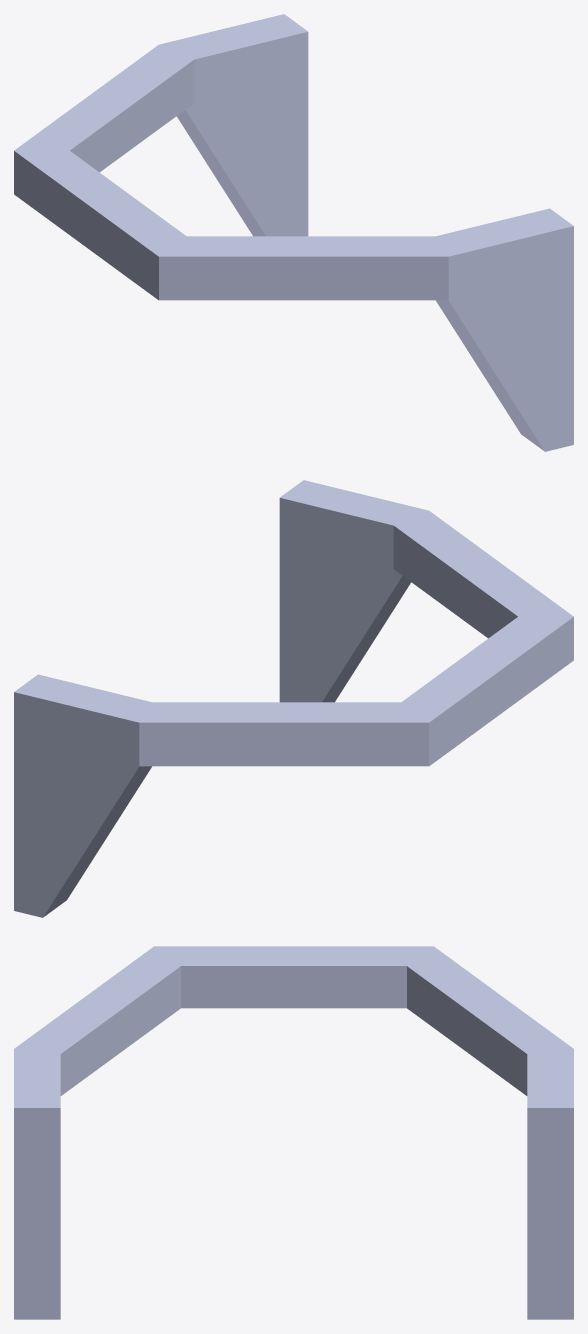
File: Head gear 1.FBX
The picture shows the model from 3 angles, top to bottom: view 1: azimuth 30°, elevation 25°; view 2: azimuth 150°, elevation 25°; view 3: azimuth 270°, elevation 25°; orthographic projection. The views are drawn at different scales.
Visible parts, largest first — view 1: Mirror4; view 2: Mirror4; view 3: Mirror4.
Boxes of the visible parts, left/top/right/bottom form: Mirror4: left=14, top=14, right=573, bottom=451; Mirror4: left=14, top=480, right=573, bottom=917; Mirror4: left=14, top=946, right=573, bottom=1319.
Size of the model in its own units: 8.2 by 5 by 12.
